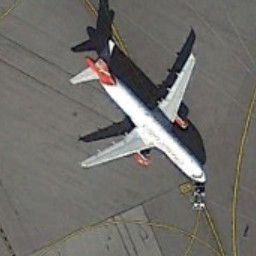Airplane: (58, 35, 217, 193)
